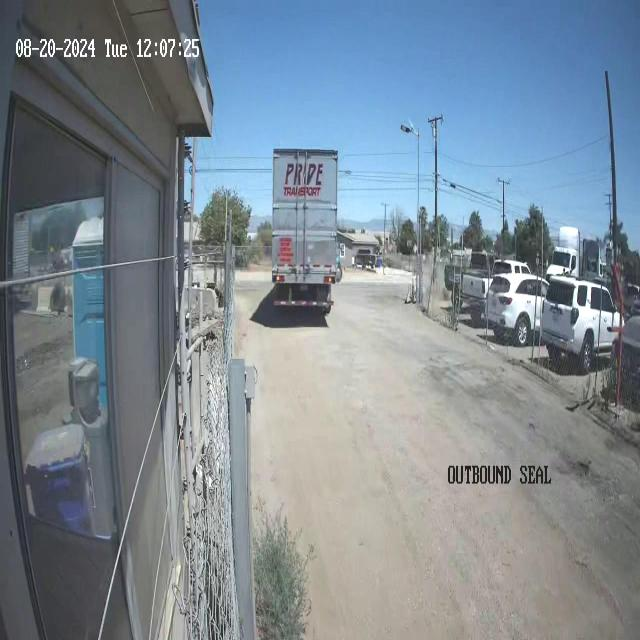TRUCK_CONTAINER: (271, 147, 339, 310)
